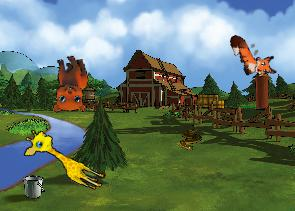bear: (42, 52, 94, 117)
fox: (226, 24, 280, 86)
giraffe: (18, 125, 112, 193)
